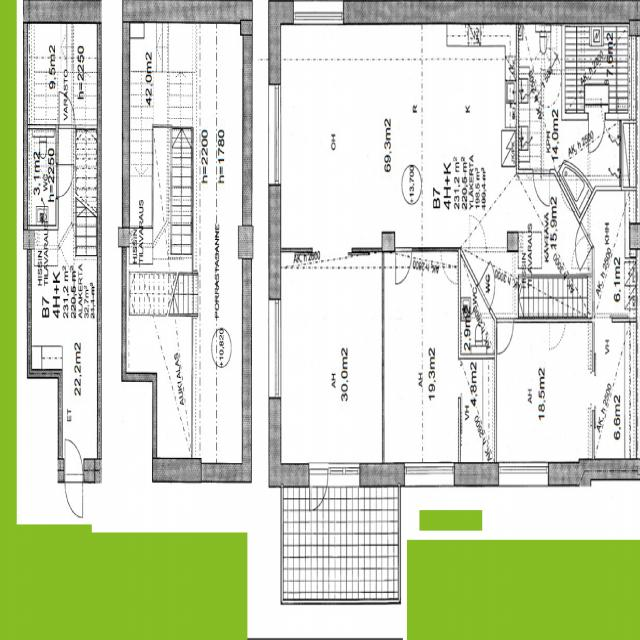door: (477, 259, 504, 311), (568, 219, 594, 271), (309, 462, 328, 524), (480, 323, 514, 357), (65, 458, 83, 519), (65, 422, 83, 482), (588, 115, 606, 156), (56, 164, 76, 198), (395, 248, 412, 288), (533, 168, 549, 206), (59, 92, 75, 129)
